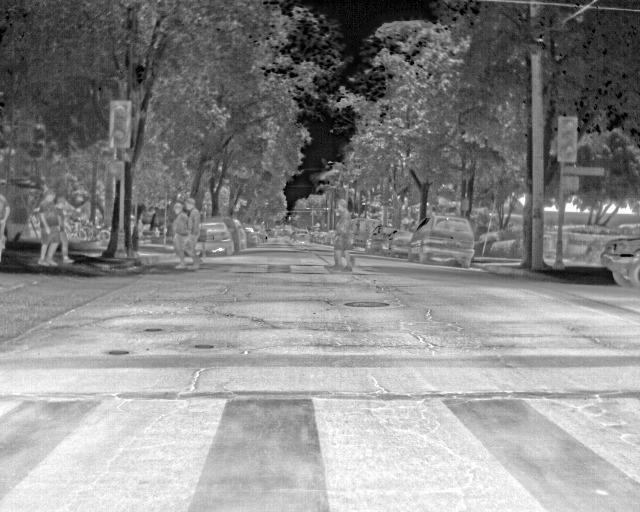bicycle: (409, 217, 477, 271), (596, 236, 638, 290), (389, 220, 425, 258), (215, 215, 249, 252), (200, 222, 236, 256), (289, 226, 310, 247), (245, 225, 259, 246)
empty: (330, 197, 362, 269), (36, 191, 65, 262), (186, 196, 207, 270), (170, 201, 188, 269), (363, 208, 380, 257), (0, 191, 12, 251)
